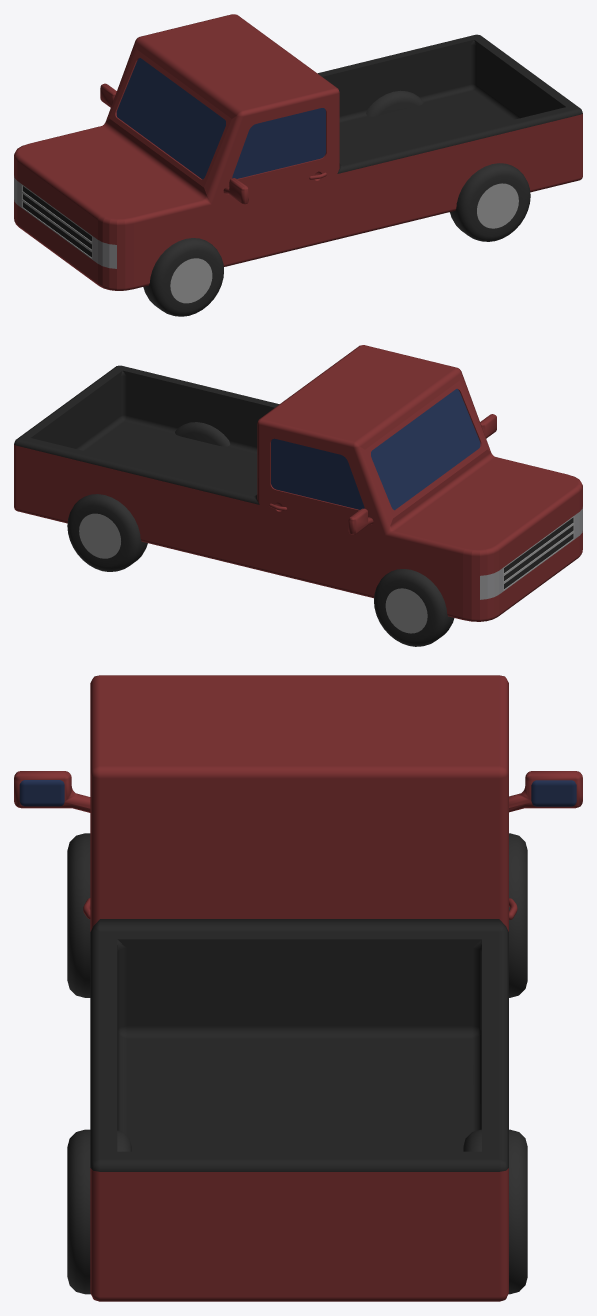
File: PickupTruck.fbx
3 renders of one model, top to bottom at view 1: azimuth 30°, elevation 25°; view 2: azimuth 150°, elevation 25°; view 3: azimuth 270°, elevation 25°, orthographic. The views are drawn at different scales.
Visible parts, largest first — view 1: handle, back wheel R, front wheel R, back wheel L; view 2: handle, back wheel L, front wheel L, back wheel R; view 3: handle, back wheel R, front wheel R, back wheel L, front wheel L.
Boxes of the visible parts, left/top/right/bottom form: handle: left=14, top=14, right=582, bottom=290; back wheel R: left=450, top=163, right=530, bottom=241; front wheel R: left=143, top=238, right=223, bottom=316; back wheel L: left=366, top=90, right=423, bottom=116; handle: left=14, top=345, right=582, bottom=621; back wheel L: left=67, top=494, right=147, bottom=571; front wheel L: left=374, top=569, right=454, bottom=646; back wheel R: left=175, top=422, right=230, bottom=446; handle: left=14, top=675, right=582, bottom=1301; back wheel R: left=67, top=1129, right=131, bottom=1294; front wheel R: left=67, top=833, right=90, bottom=997; back wheel L: left=463, top=1129, right=527, bottom=1294; front wheel L: left=509, top=833, right=527, bottom=997.
Size of the model in its own units: 623 by 235 by 326.
